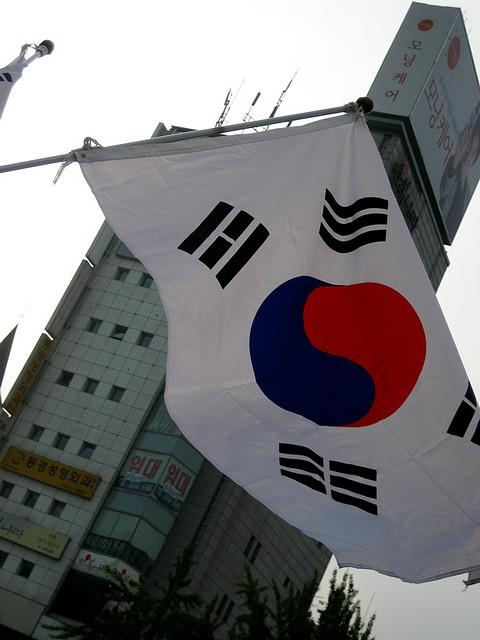Korean_flag: (96, 134, 472, 606)
